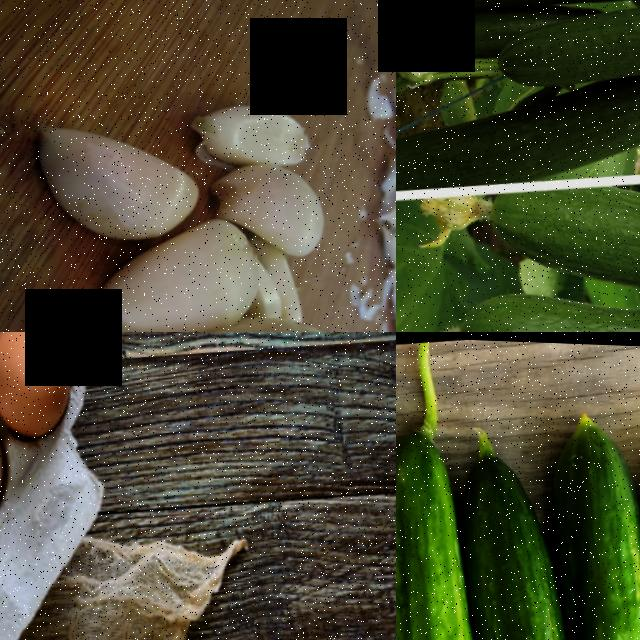cucumber: (448, 432, 619, 640), (396, 65, 640, 203), (396, 400, 520, 640), (536, 397, 640, 640), (496, 0, 640, 95), (586, 158, 640, 310)
egg_: (0, 332, 82, 438)
garlic: (33, 105, 202, 243), (87, 211, 269, 332), (219, 150, 335, 259), (193, 90, 318, 164), (76, 306, 342, 332)
